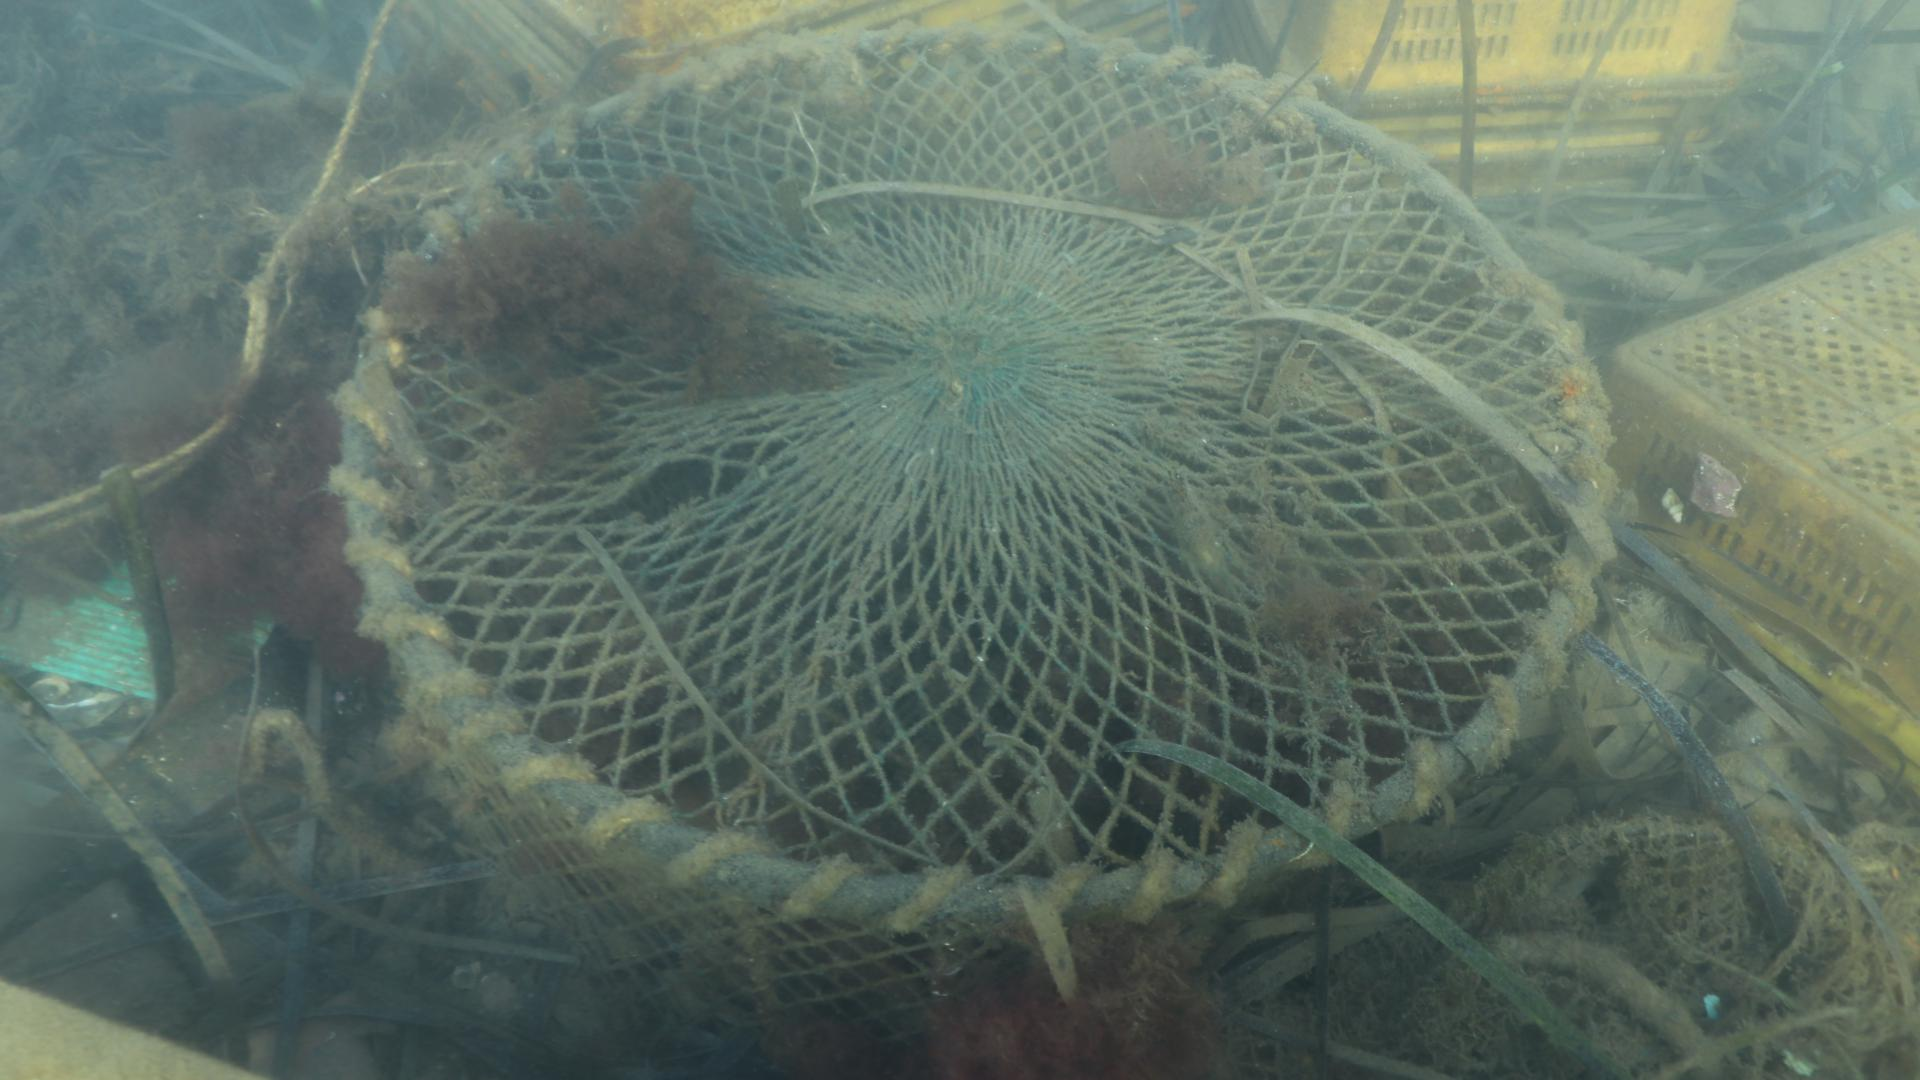circular fish trap: (326, 22, 1618, 1035)
